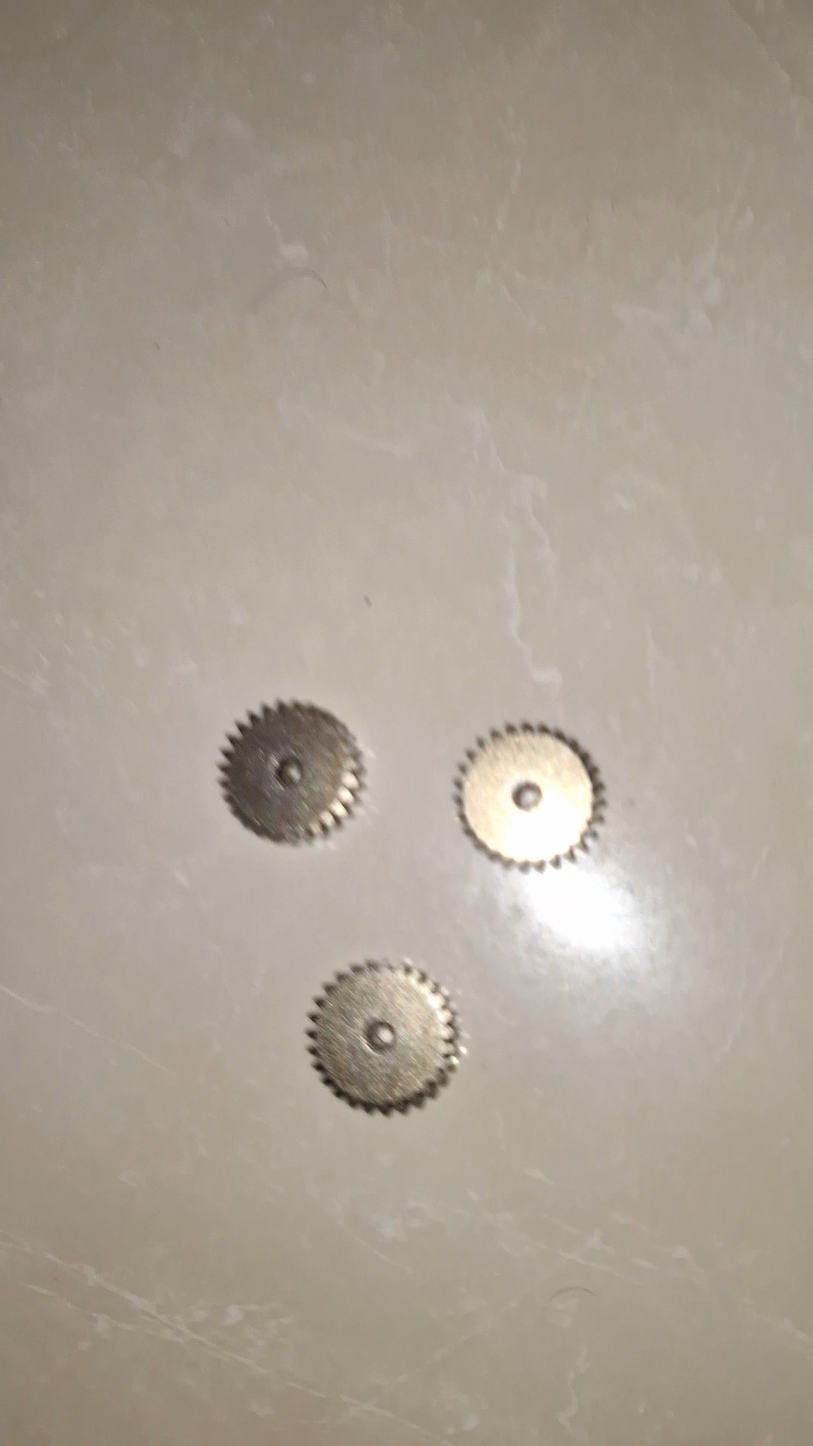spur gear: (308, 962, 457, 1113), (456, 723, 604, 868), (221, 703, 362, 844)
